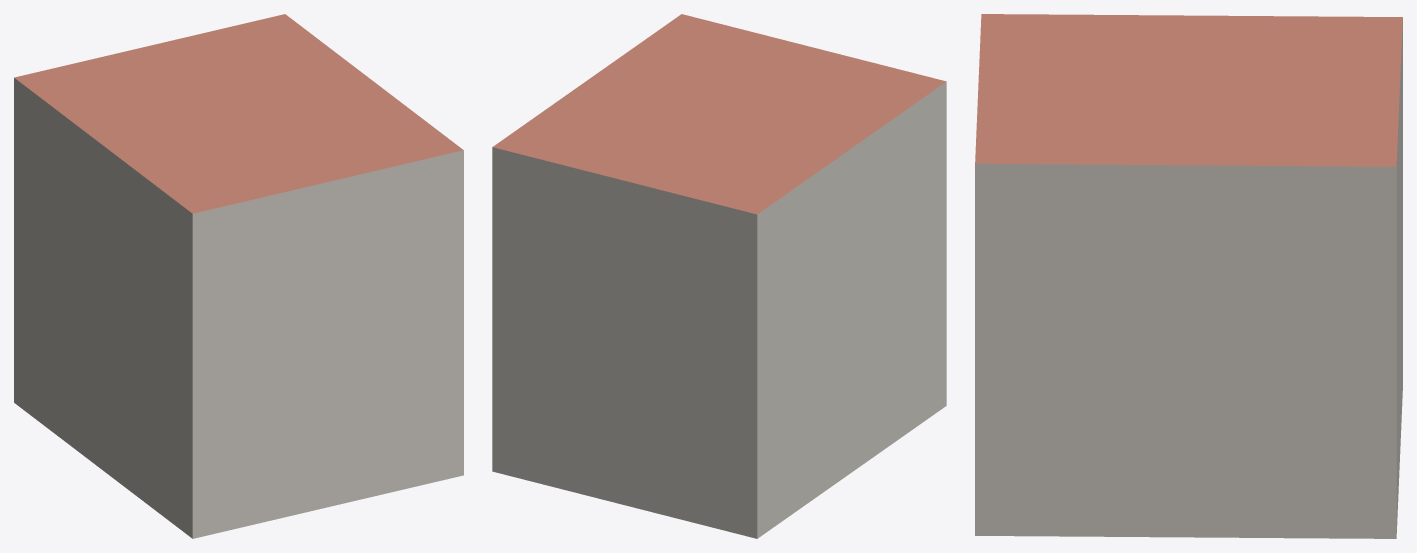
The picture shows the model from 3 angles, left to right: view 1: azimuth 30°, elevation 25°; view 2: azimuth 150°, elevation 25°; view 3: azimuth 270°, elevation 25°; orthographic projection. The views are drawn at different scales.
Parts seen in each view (by area): view 1: osm:way:493253453; view 2: osm:way:493253453; view 3: osm:way:493253453.
Boxes of the visible parts, box(x1,y1,x2,y2) form: osm:way:493253453: box(14, 14, 463, 538); osm:way:493253453: box(492, 14, 946, 538); osm:way:493253453: box(975, 14, 1402, 538).
Size of the model in its own units: 2.65 by 3 by 3.13.
